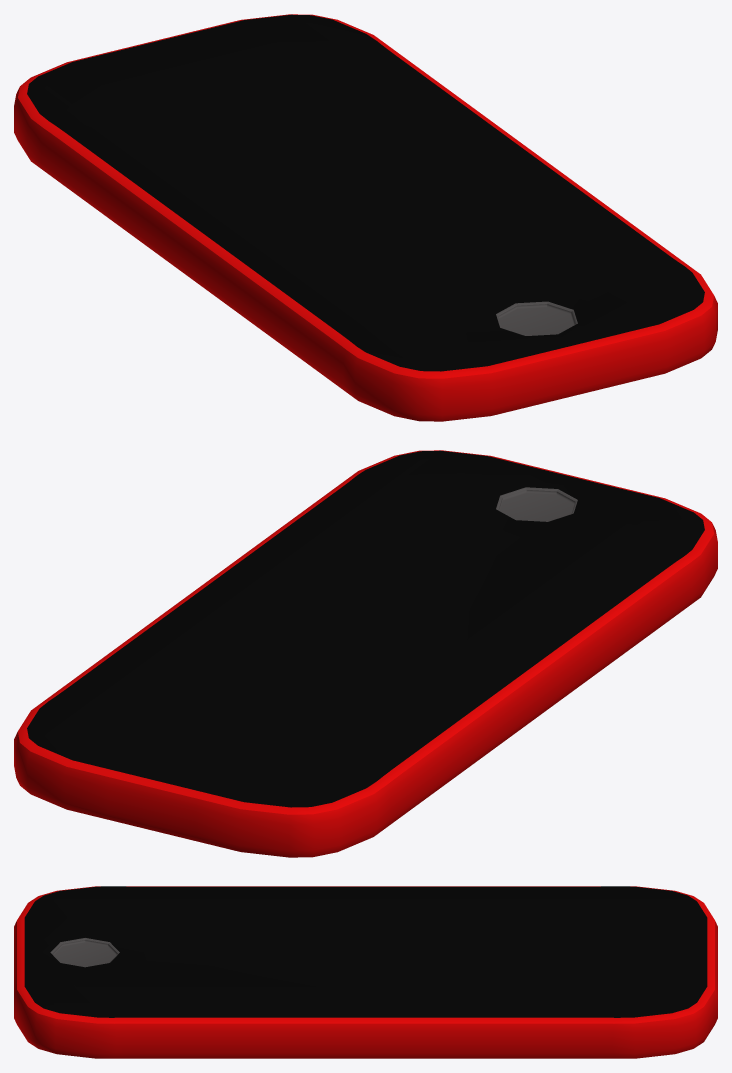
Rendered from SmartPhone.fbx.
The picture shows the model from 3 angles, top to bottom: view 1: azimuth 30°, elevation 25°; view 2: azimuth 150°, elevation 25°; view 3: azimuth 270°, elevation 25°; orthographic projection. The views are drawn at different scales.
Visible parts, largest first — view 1: SmartPhone; view 2: SmartPhone; view 3: SmartPhone.
Part boxes in pixels (bbox=[...]): SmartPhone: bbox=[14, 14, 717, 421]; SmartPhone: bbox=[14, 450, 717, 857]; SmartPhone: bbox=[14, 886, 717, 1058].
Size of the model in its own units: 10.21 by 1.47 by 21.69.
